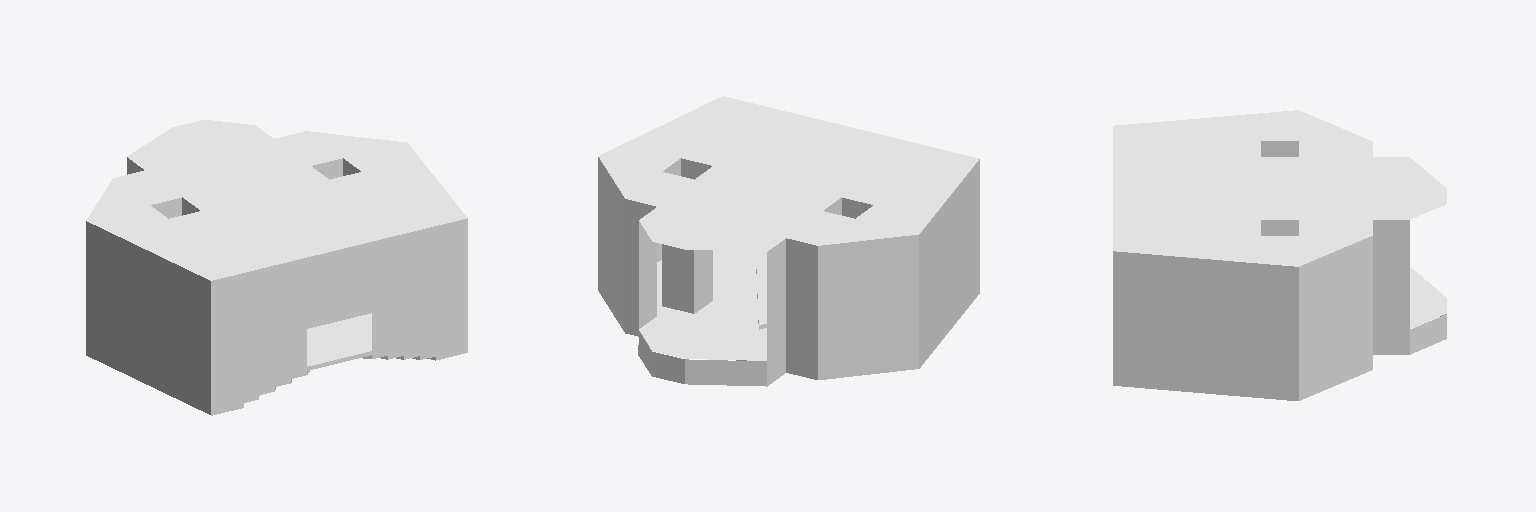
Rendered from DOOMIIM1_IR.obj.
3 views of the same model, side by side, from view 1: azimuth 30°, elevation 25°; view 2: azimuth 150°, elevation 25°; view 3: azimuth 270°, elevation 25° (orthographic).
Parts seen in each view (by area): view 1: zonainicial, paredxd; view 2: zonainicial, padeeres2, paderes; view 3: zonainicial, padeeres2, paderes.
Part boxes in pixels (bbox=[...]): zonainicial: bbox=[86, 120, 467, 414]; paredxd: bbox=[211, 274, 243, 415]; zonainicial: bbox=[598, 96, 979, 379]; padeeres2: bbox=[639, 221, 785, 386]; paderes: bbox=[639, 331, 766, 386]; zonainicial: bbox=[1113, 110, 1446, 400]; padeeres2: bbox=[1373, 220, 1409, 354]; paderes: bbox=[1410, 314, 1446, 343].
Size of the model in its own units: 52.09 by 20.91 by 46.95.